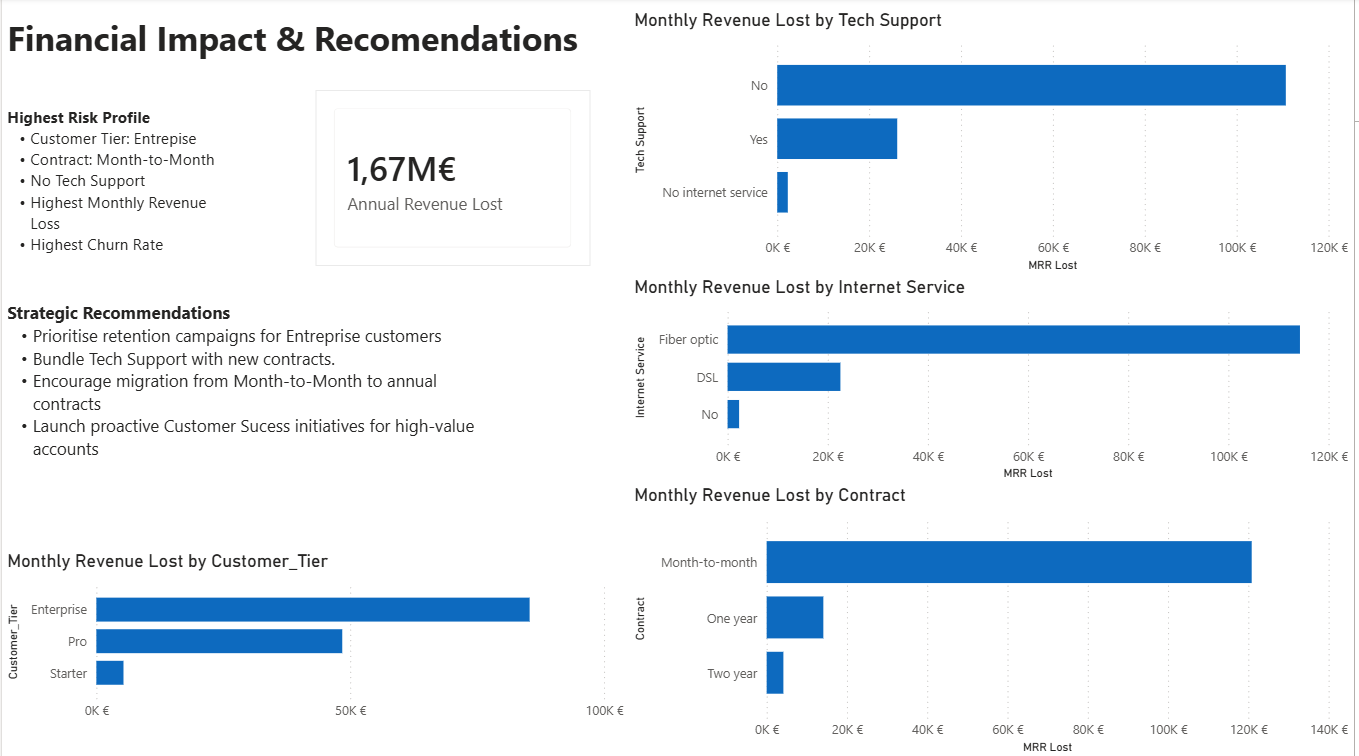

What the dashboard file says about the page in this screenshot:
{"tool":"powerbi","page":{"name":"Financial Impact & Recomendations","canvas":[1280,720],"ordinal":2},"visuals":[{"type":"cardVisual","fields":{"Data":["B2B_Churn_Limpo2.Annual Revenue Lost"]},"box":[296.8,88,259.9,166.2],"z":0},{"type":"barChart","title":"Monthly Revenue Lost by Customer_Tier","fields":{"Category":["B2B_Churn_Limpo2.Customer_Tier"],"Y":["B2B_Churn_Limpo2.MRR Lost"]},"box":[0,524,593.6,169],"z":1000},{"type":"barChart","title":"Monthly Revenue Lost by Contract","fields":{"Category":["B2B_Churn_Limpo2.Contract"],"Y":["B2B_Churn_Limpo2.MRR Lost"]},"box":[593.4,461.1,686,258.9],"z":2000},{"type":"textbox","box":[0,98,211.6,170.4],"z":3000},{"type":"textbox","box":[0,282.6,454.4,178.9],"z":4000},{"type":"barChart","title":"Monthly Revenue Lost by Tech Support","fields":{"Category":["B2B_Churn_Limpo2.Tech Support"],"Y":["B2B_Churn_Limpo2.MRR Lost"]},"box":[593.6,11.4,685.9,252.8],"z":5000},{"type":"barChart","title":"Monthly Revenue Lost by Internet Service","fields":{"Category":["B2B_Churn_Limpo2.Internet Service"],"Y":["B2B_Churn_Limpo2.MRR Lost"]},"box":[593.6,264.1,685.9,197.4],"z":6000},{"type":"textbox","box":[0,11.4,572.3,76.7],"z":7000}]}

Visuals, with their boxes in screenshot pixels (x1, y1, x2, y2), scaled from the page's 1280x720 canvas onto the 1359x756 screenshot:
cardVisual - B2B_Churn_Limpo2.Annual Revenue Lost: (x1=315, y1=92, x2=591, y2=267)
"Monthly Revenue Lost by Customer_Tier" barChart: (x1=0, y1=550, x2=630, y2=728)
"Monthly Revenue Lost by Contract" barChart: (x1=630, y1=484, x2=1358, y2=755)
textbox: (x1=0, y1=103, x2=225, y2=282)
textbox: (x1=0, y1=297, x2=482, y2=485)
"Monthly Revenue Lost by Tech Support" barChart: (x1=630, y1=12, x2=1358, y2=277)
"Monthly Revenue Lost by Internet Service" barChart: (x1=630, y1=277, x2=1358, y2=485)
textbox: (x1=0, y1=12, x2=608, y2=93)
